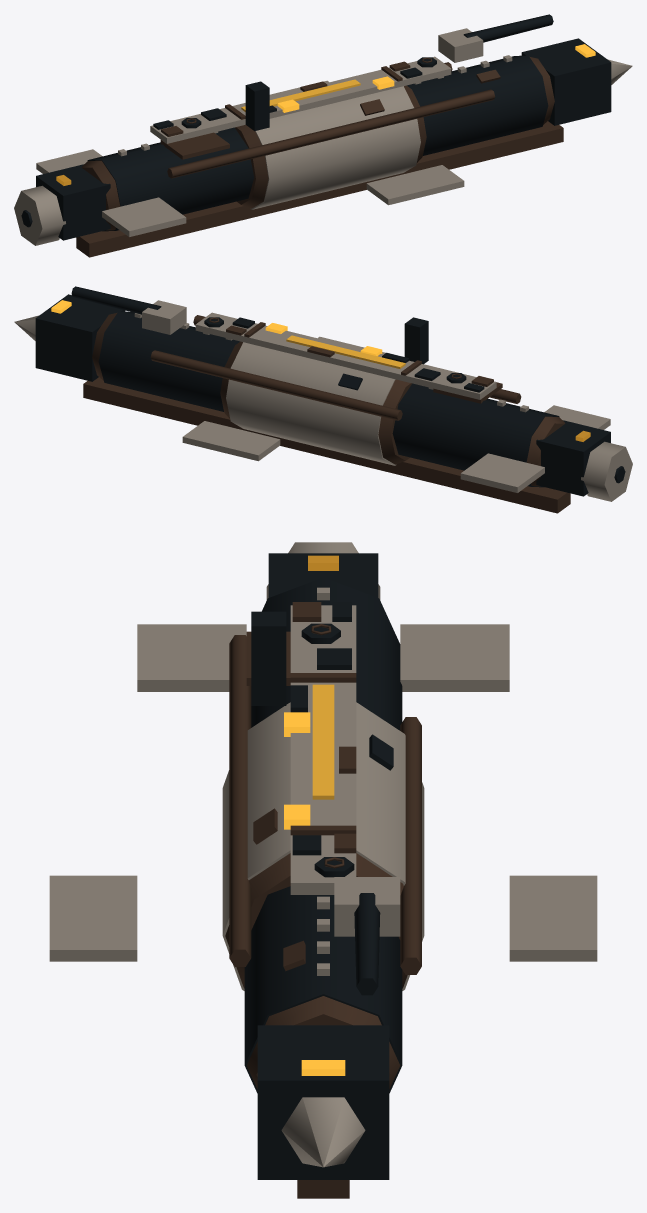
File: chorister-bathyarch.glb
The picture shows the model from 3 angles, top to bottom: view 1: azimuth 30°, elevation 25°; view 2: azimuth 150°, elevation 25°; view 3: azimuth 270°, elevation 25°; orthographic projection. The views are drawn at different scales.
Visible parts, largest first — view 1: can_1, can_0, can_2, keel, bow_block, pipe_s, deck_walk, stern_block, stub_wing_s, prop_shroud, fin_s, can_cap_1a (+9 smaller); view 2: can_1, can_2, can_0, keel, bow_block, deck_walk, stern_block, pipe_p, stub_wing_p, prop_shroud, fin_p, can_cap_1a (+10 smaller); view 3: bow_block, can_1, can_0, deck_walk, stub_wing_s, stub_wing_p, fin_p, can_2, pipe_s, fin_s, pipe_p, bow_ram (+8 smaller).
Part boxes in pixels (left/top/right/bottom): can_1: left=250, top=86, right=420, bottom=209; can_0: left=407, top=55, right=548, bottom=155; can_2: left=87, top=127, right=254, bottom=231; keel: left=76, top=121, right=563, bottom=257; bow_block: left=521, top=38, right=611, bottom=125; pipe_s: left=167, top=89, right=495, bottom=178; deck_walk: left=150, top=56, right=451, bottom=143; stern_block: left=36, top=164, right=110, bottom=240; stub_wing_s: left=366, top=165, right=464, bottom=205; prop_shroud: left=14, top=185, right=65, bottom=245; fin_s: left=102, top=197, right=186, bottom=236; can_cap_1a: left=235, top=125, right=268, bottom=208; can_1: left=226, top=342, right=396, bottom=465; can_2: left=392, top=383, right=559, bottom=487; can_0: left=98, top=311, right=239, bottom=411; keel: left=83, top=377, right=570, bottom=513; bow_block: left=35, top=294, right=125, bottom=381; deck_walk: left=195, top=312, right=496, bottom=399; stern_block: left=536, top=420, right=610, bottom=496; pipe_p: left=150, top=350, right=402, bottom=420; stub_wing_p: left=182, top=421, right=280, bottom=461; prop_shroud: left=581, top=441, right=632, bottom=501; fin_p: left=460, top=453, right=544, bottom=492; can_cap_1a: left=378, top=379, right=411, bottom=464; bow_block: left=257, top=1025, right=389, bottom=1179; can_1: left=222, top=702, right=424, bottom=990; can_0: left=244, top=886, right=402, bottom=1093; deck_walk: left=290, top=605, right=356, bottom=894; stub_wing_s: left=49, top=875, right=137, bottom=961; stub_wing_p: left=509, top=875, right=597, bottom=961; fin_p: left=400, top=624, right=509, bottom=691; can_2: left=251, top=577, right=402, bottom=730; pipe_s: left=229, top=635, right=251, bottom=966; fin_s: left=137, top=624, right=246, bottom=691; pipe_p: left=400, top=717, right=421, bottom=974; bow_ram: left=281, top=1097, right=365, bottom=1167.
Size of the model in its own units: 50 by 10.78 by 19.53.
